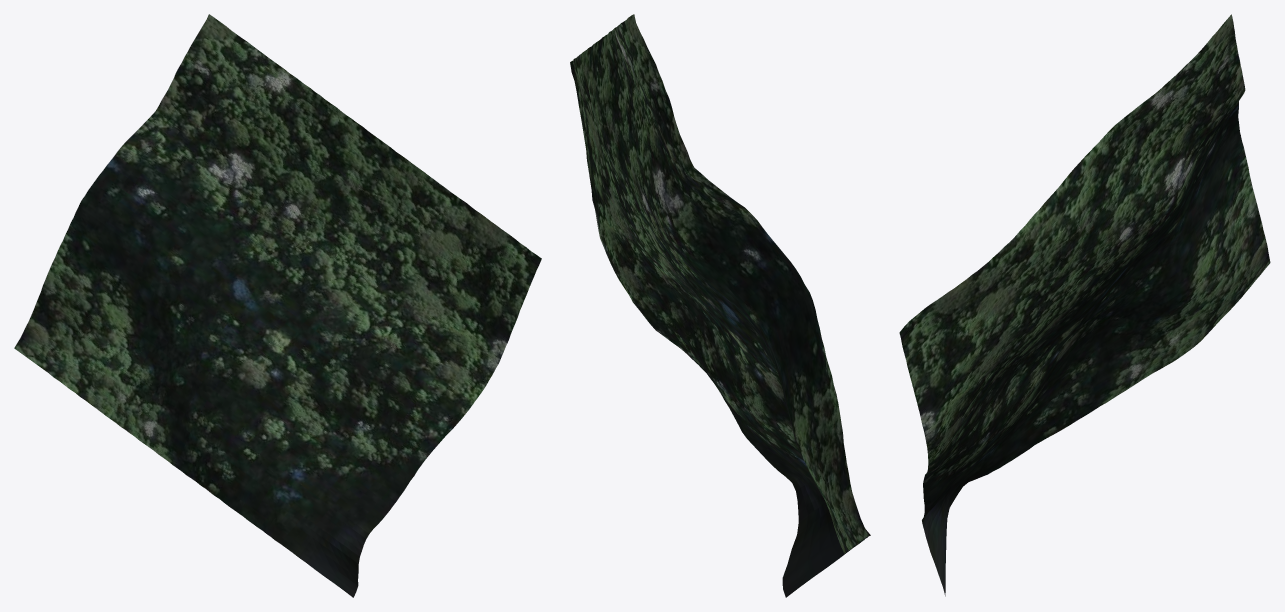
3 renders of one model, left to right at view 1: azimuth 30°, elevation 25°; view 2: azimuth 150°, elevation 25°; view 3: azimuth 270°, elevation 25°, orthographic. The views are drawn at different scales.
Size of the model in its own units: 310 by 402 by 236.
1 material, 1 textured.
